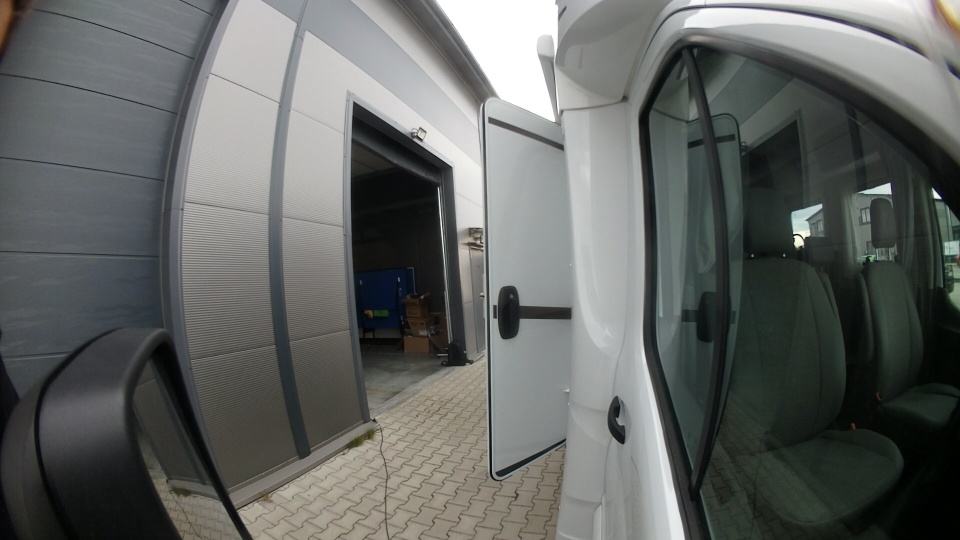door_front: (469, 91, 581, 482)
